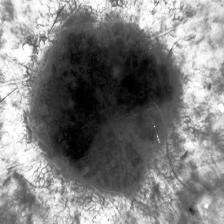Benign Marking or Mole: (29, 20, 182, 188)
